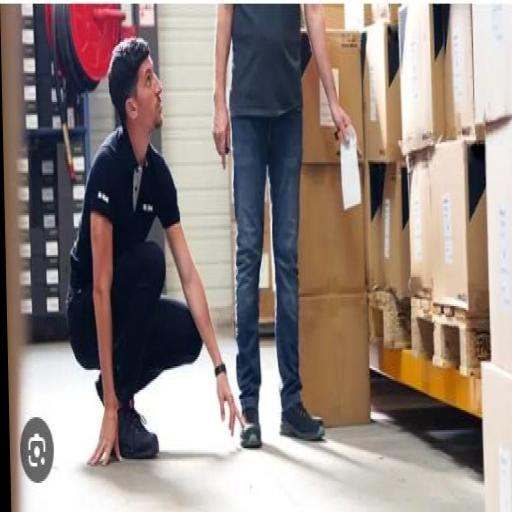safety_boots: (278, 399, 341, 451), (115, 413, 172, 462), (233, 396, 274, 462)
